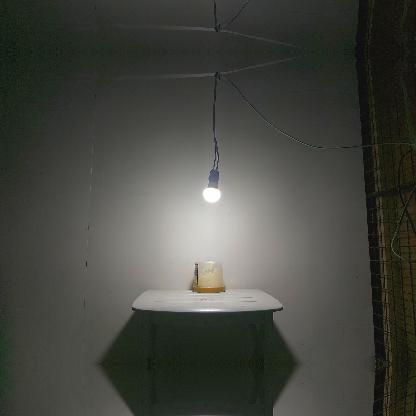Lady-s-Choice: (192, 260, 224, 292)
